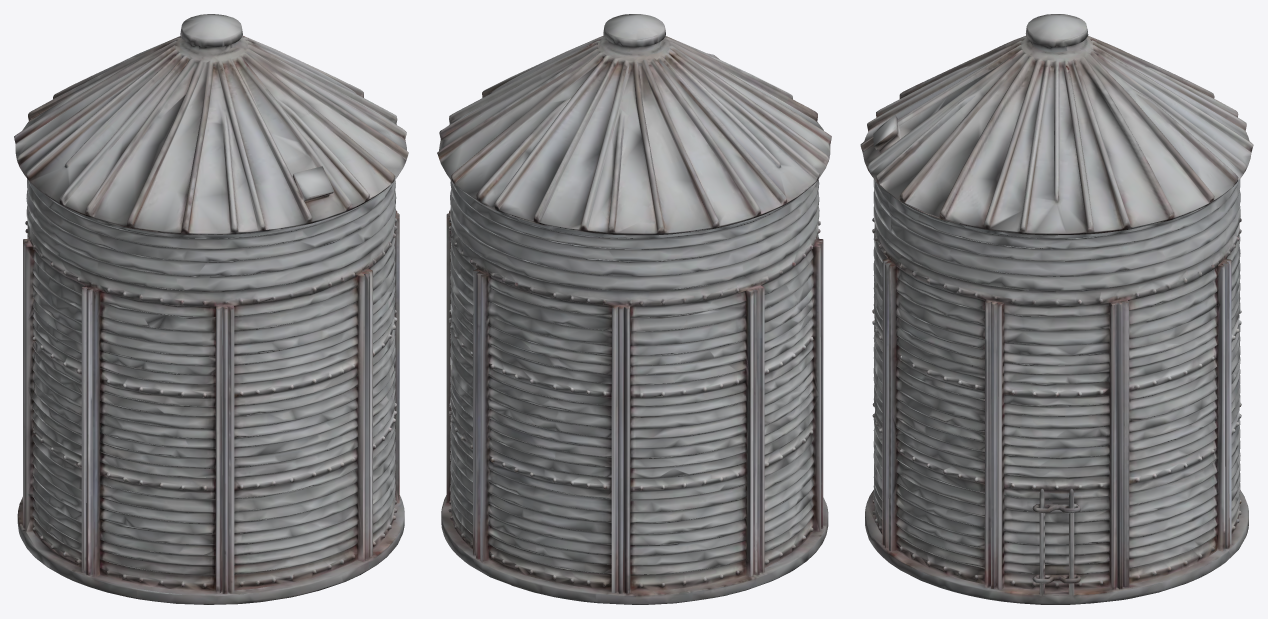
The model's file is load4-grainbin.glb.
3 renders of one model, left to right at view 1: azimuth 30°, elevation 25°; view 2: azimuth 150°, elevation 25°; view 3: azimuth 270°, elevation 25°, orthographic.
Visible parts, largest first — view 1: body; view 2: body; view 3: body.
Boxes of the visible parts, x1=… form: body: x1=14, y1=14, x2=408, y2=604; body: x1=437, y1=14, x2=831, y2=604; body: x1=860, y1=14, x2=1253, y2=604.
Bounding box in the file's own units: 3.19 × 4.49 × 3.16.
Materials: 1 (1 with a texture image).
